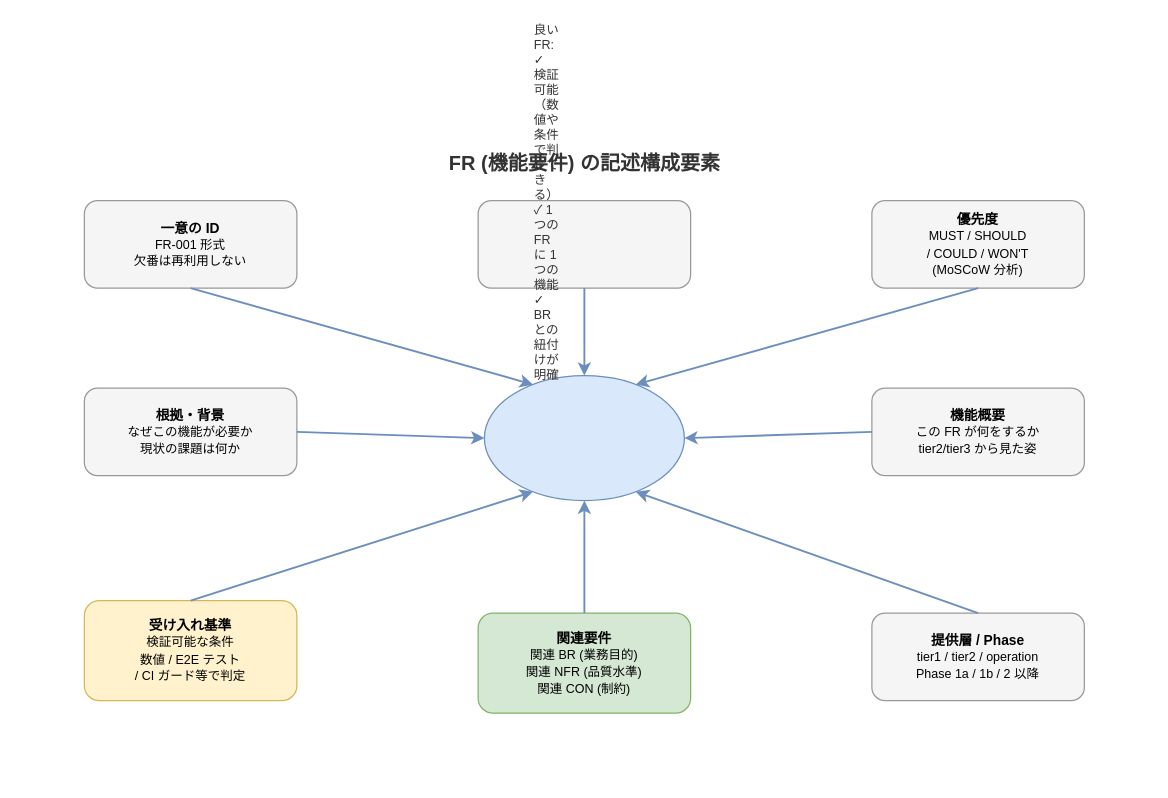
The diagram is 1168 pixels wide and 798 high, and some of its shapes have lost their labels. The box of each missing label's shape, as (x1, y1, x2, y2) in pixels:
FR-xxx 機能要件: (483, 374, 684, 501)
要件文 「〜できること」形式 曖昧な形容詞を使わない: (477, 199, 691, 288)
